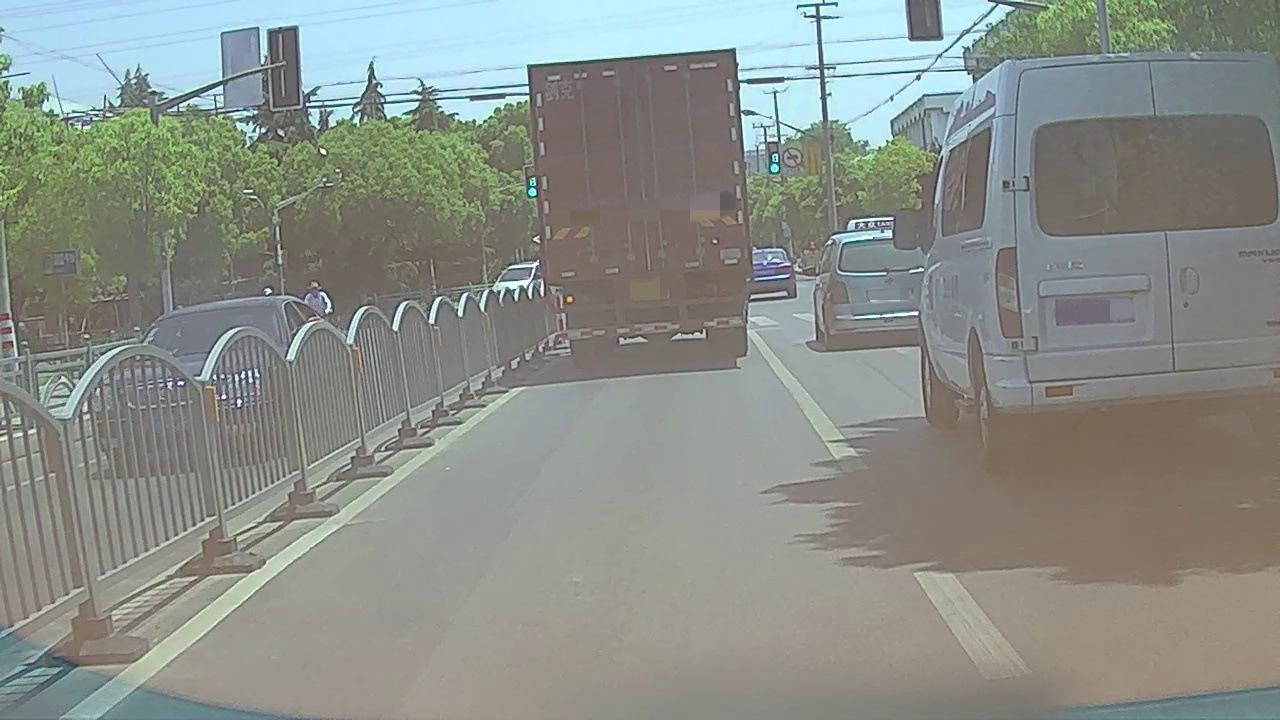traffic_light: (525, 166, 538, 199), (768, 142, 780, 174)
